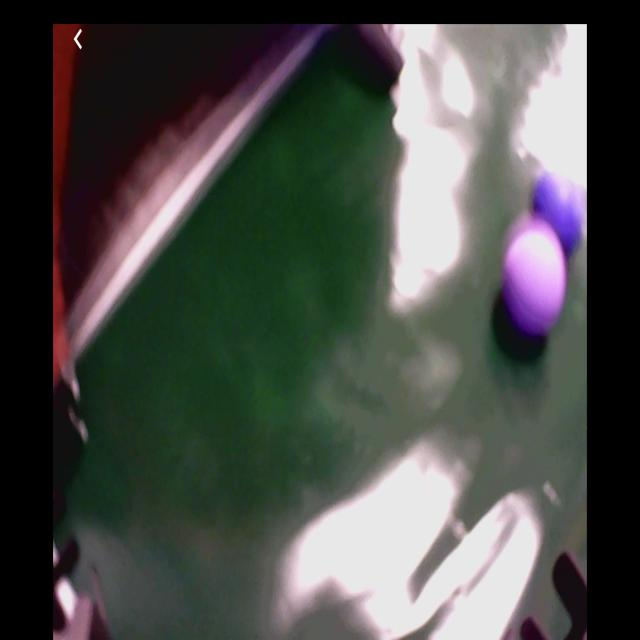ball: (503, 223, 568, 337), (533, 171, 586, 257)
